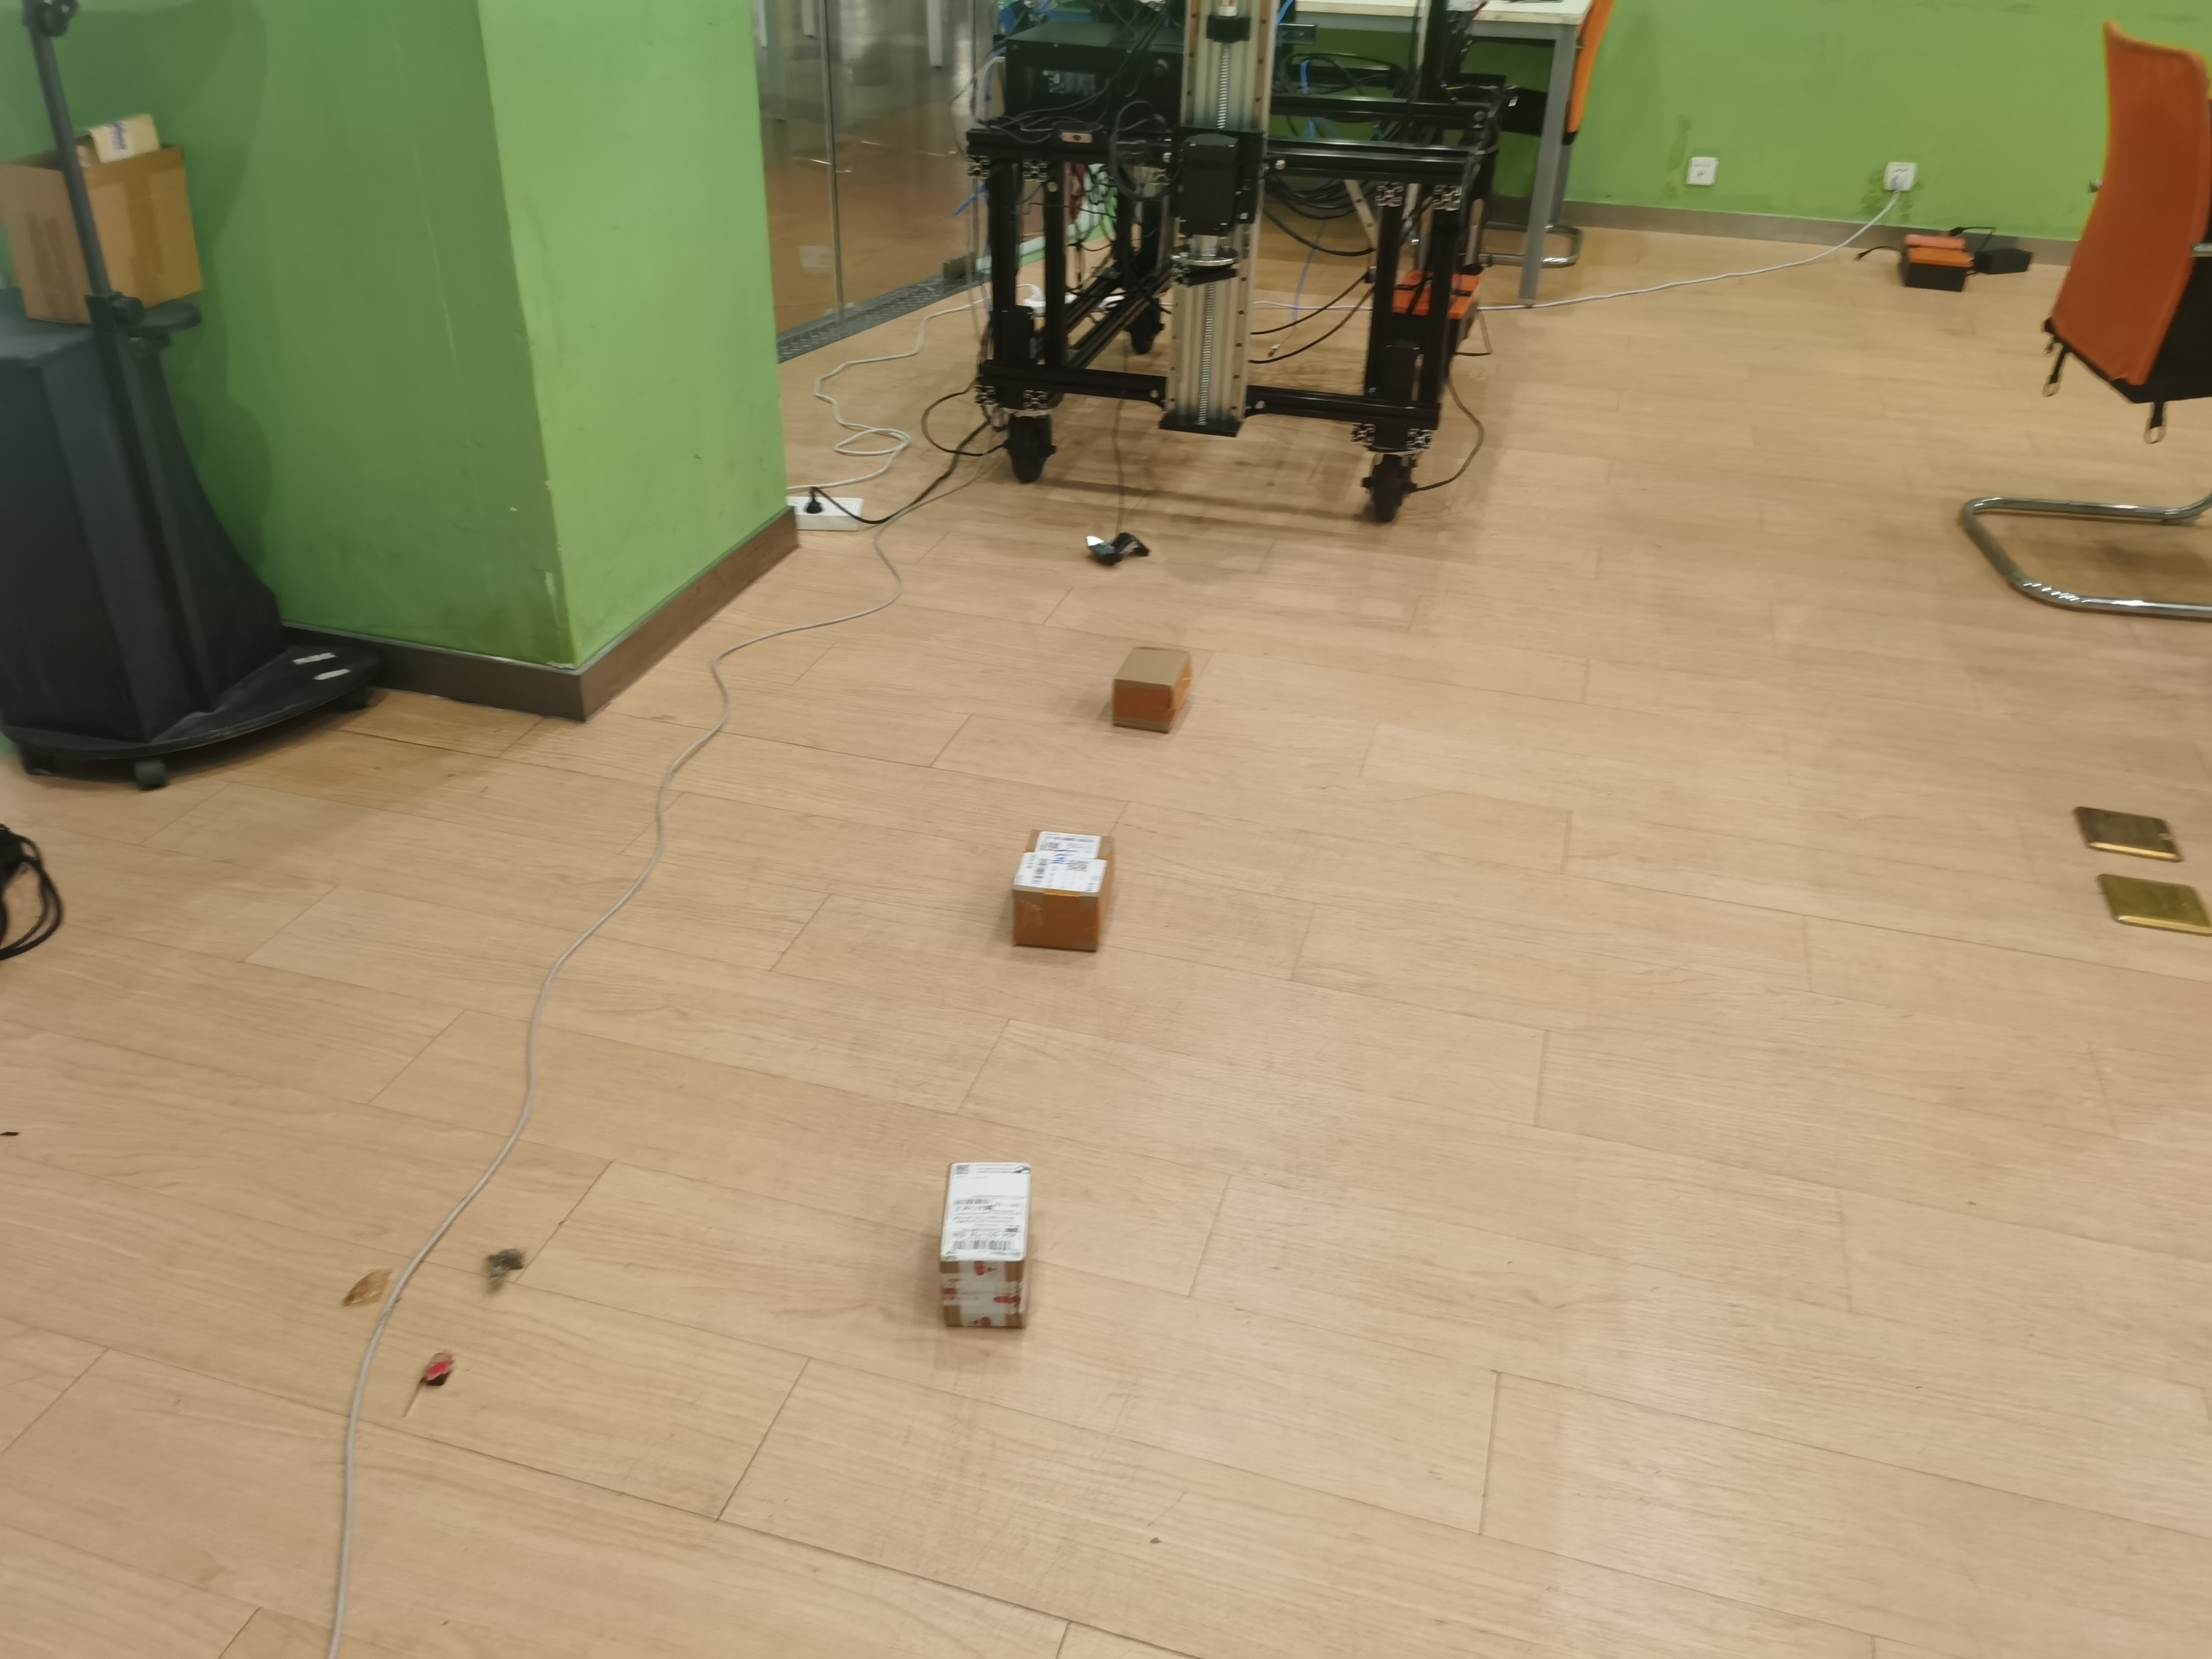box: (920, 1148, 1057, 1347), (1000, 819, 1136, 962), (1104, 624, 1204, 749)
